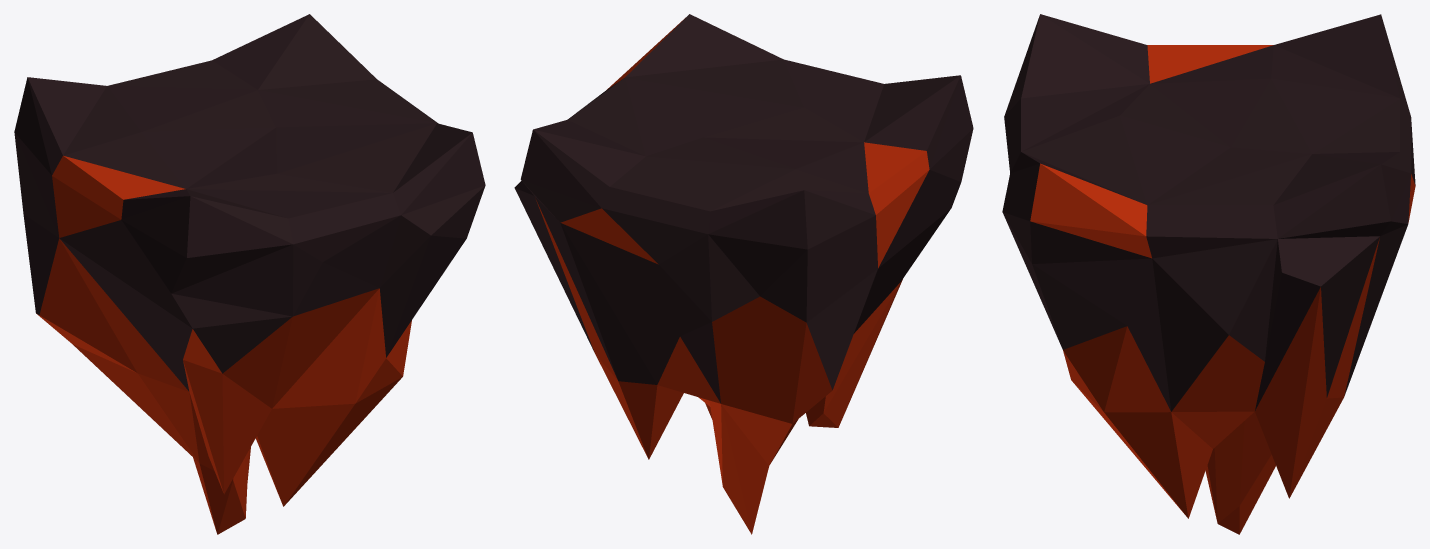
The model's file is plane_lava.FBX.
3 views of the same model, side by side, from view 1: azimuth 30°, elevation 25°; view 2: azimuth 150°, elevation 25°; view 3: azimuth 270°, elevation 25° (orthographic). The views are drawn at different scales.
Visible parts, largest first — view 1: plane; view 2: plane; view 3: plane.
Boxes of the visible parts, x1,y1,x2,y2 form: plane: (14,14,485,534); plane: (514,14,973,534); plane: (1002,14,1415,534).
Size of the model in its own units: 39.7 by 46.8 by 38.22.
